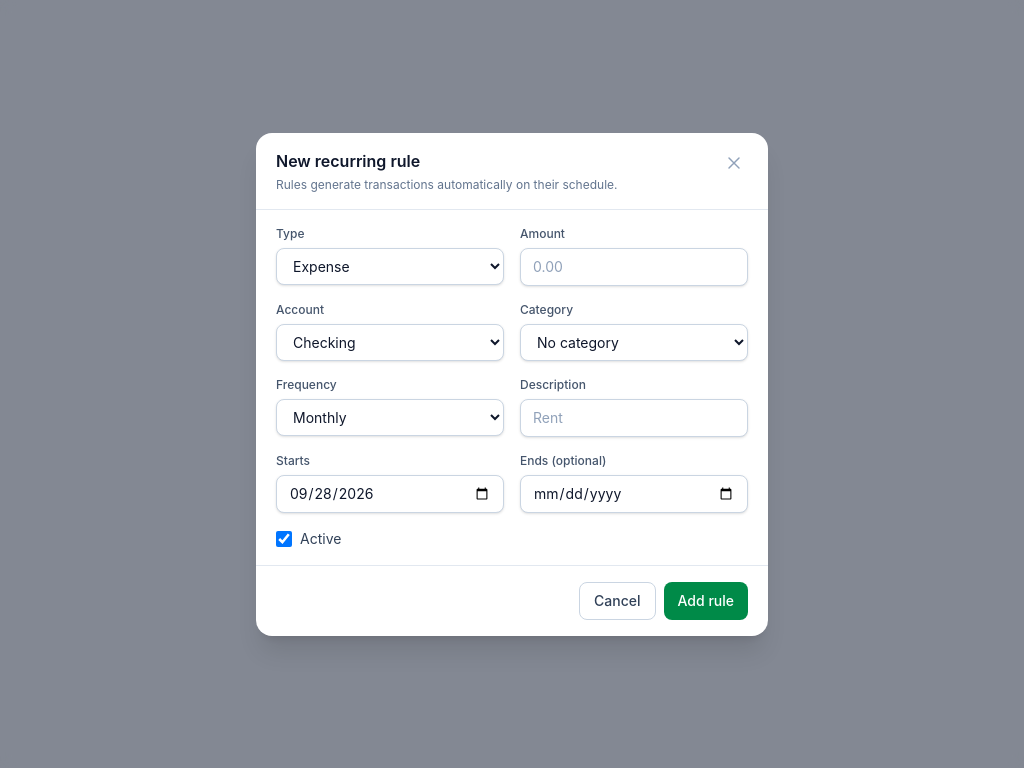
RecurringForm › requires an amount and description
What coordinates should you click on to do the following:
click the button "Add rule"
I would click on:
 (706, 600)
Its box is [664, 582, 748, 620].
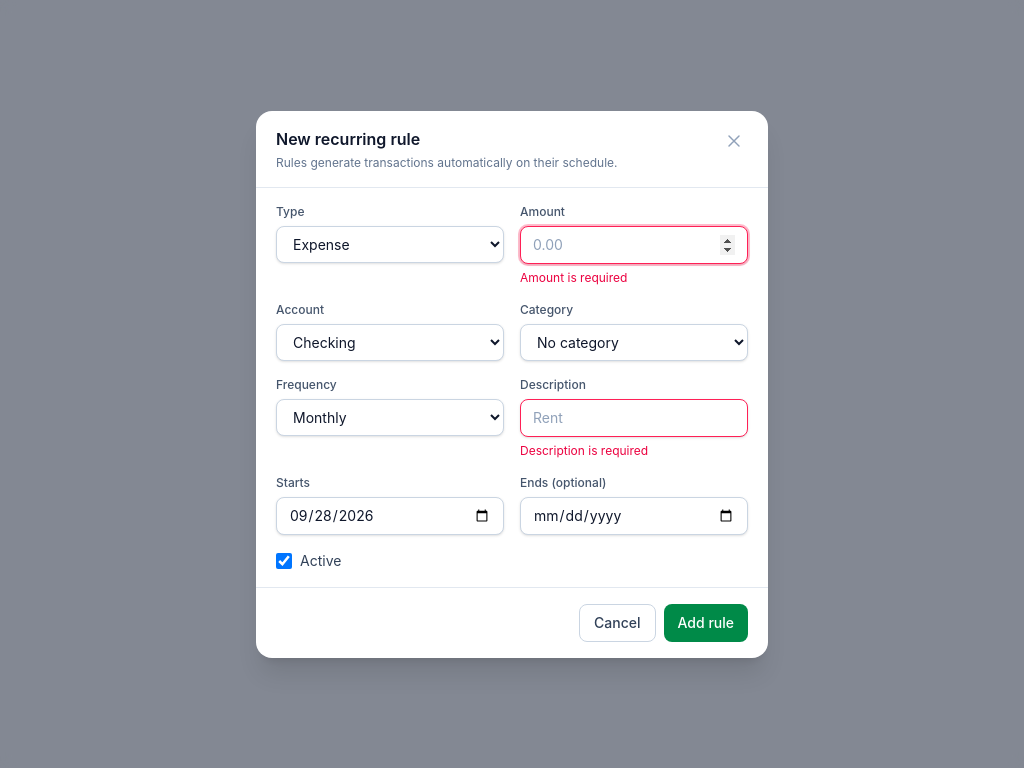
Check: the text "Amount is required" is shown, box [520, 270, 627, 284]
Check: the text "Description is required" is shown, box [520, 442, 648, 458]
